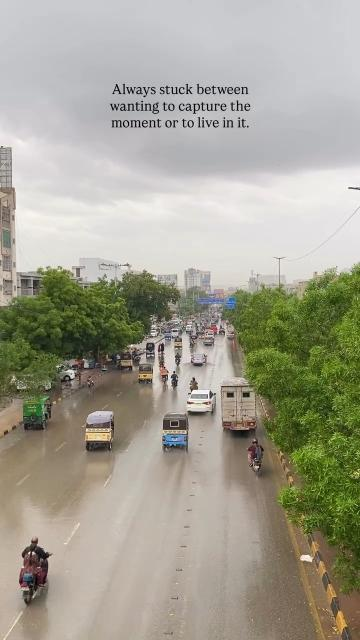Bike: (19, 573, 37, 607), (250, 457, 264, 477), (161, 373, 168, 385), (170, 378, 177, 389)
Car: (185, 389, 217, 416), (190, 353, 208, 367)
Person: (21, 544, 41, 575), (22, 535, 46, 557), (247, 436, 264, 460), (190, 376, 198, 389), (170, 371, 178, 380)
Rickshaw: (83, 409, 117, 452), (160, 408, 192, 453), (20, 394, 53, 432), (137, 363, 154, 386), (119, 352, 133, 371)
Truck: (218, 376, 259, 433)
